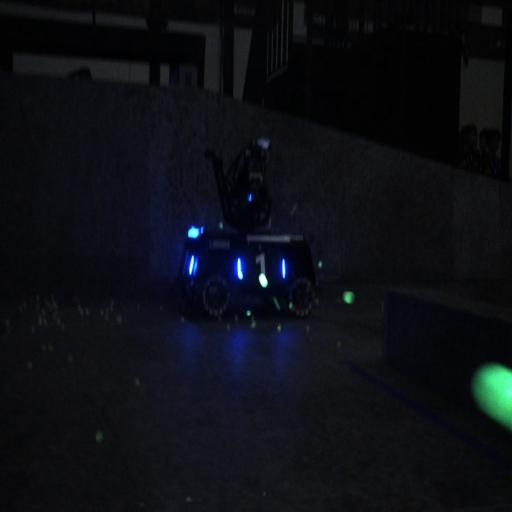target: (235, 246, 292, 287)
